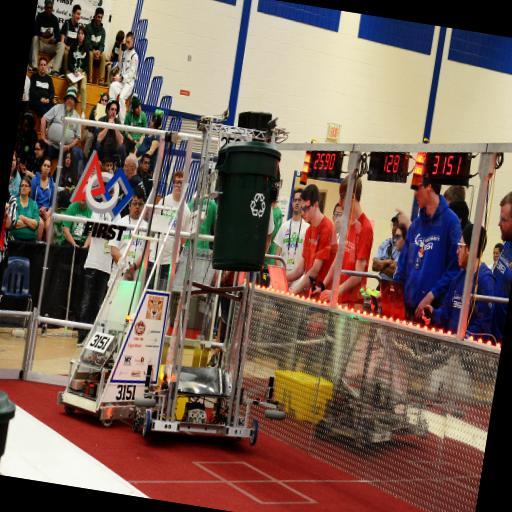robot: (130, 100, 310, 460), (52, 167, 198, 432)
